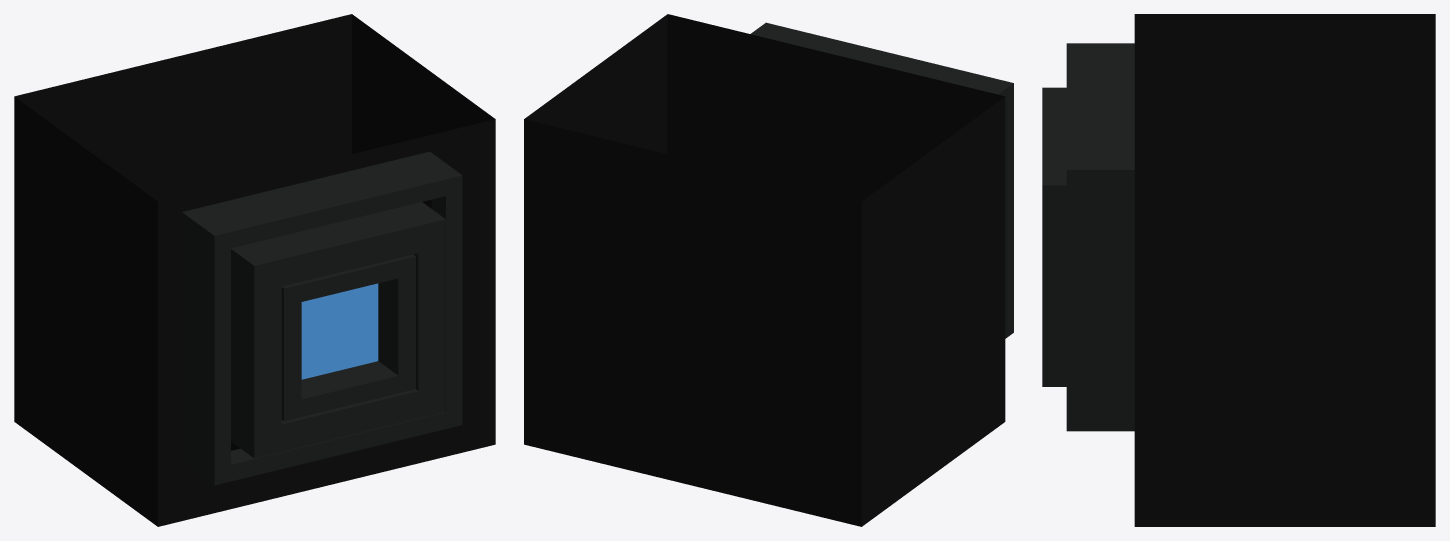
Rendered from Down_Receptor.fbx.
3 renders of one model, left to right at view 1: azimuth 30°, elevation 25°; view 2: azimuth 150°, elevation 25°; view 3: azimuth 270°, elevation 25°, orthographic. The views are drawn at different scales.
Visible parts, largest first — view 1: Down_Receptor; view 2: Down_Receptor; view 3: Down_Receptor.
Part boxes in pixels (<box>): Down_Receptor: <box>14,14,495,526</box>; Down_Receptor: <box>524,14,1013,526</box>; Down_Receptor: <box>1042,14,1435,526</box>.
Size of the model in its own units: 13.26 by 12.21 by 12.77.
